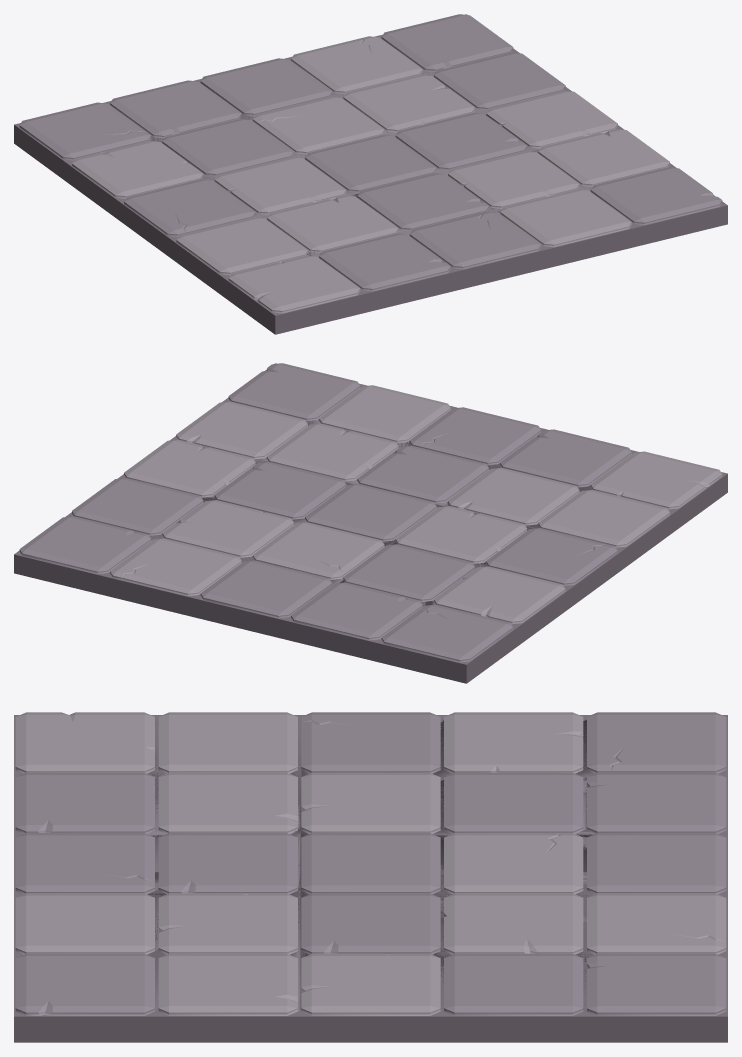
File: SolPiege.fbx
3 views of the same model, one above another, from view 1: azimuth 30°, elevation 25°; view 2: azimuth 150°, elevation 25°; view 3: azimuth 270°, elevation 25° (orthographic). The views are drawn at different scales.
Parts seen in each view (by area): view 1: SolGauche, SolDroite; view 2: SolGauche, SolDroite; view 3: SolDroite, SolGauche.
Boxes of the visible parts, left/top/right/bottom form: SolGauche: left=14, top=67, right=501, bottom=334; SolDroite: left=241, top=14, right=727, bottom=279; SolGauche: left=240, top=416, right=727, bottom=683; SolDroite: left=14, top=363, right=500, bottom=628; SolDroite: left=14, top=860, right=727, bottom=1042; SolGauche: left=14, top=712, right=727, bottom=865.
Bounding box in the file's own units: 500 × 24.17 × 500.
